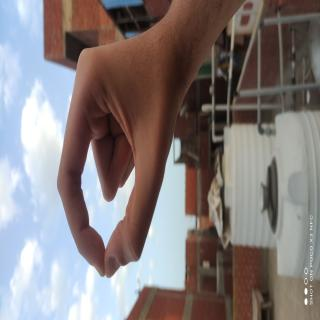FAA: (17, 115, 144, 320)
